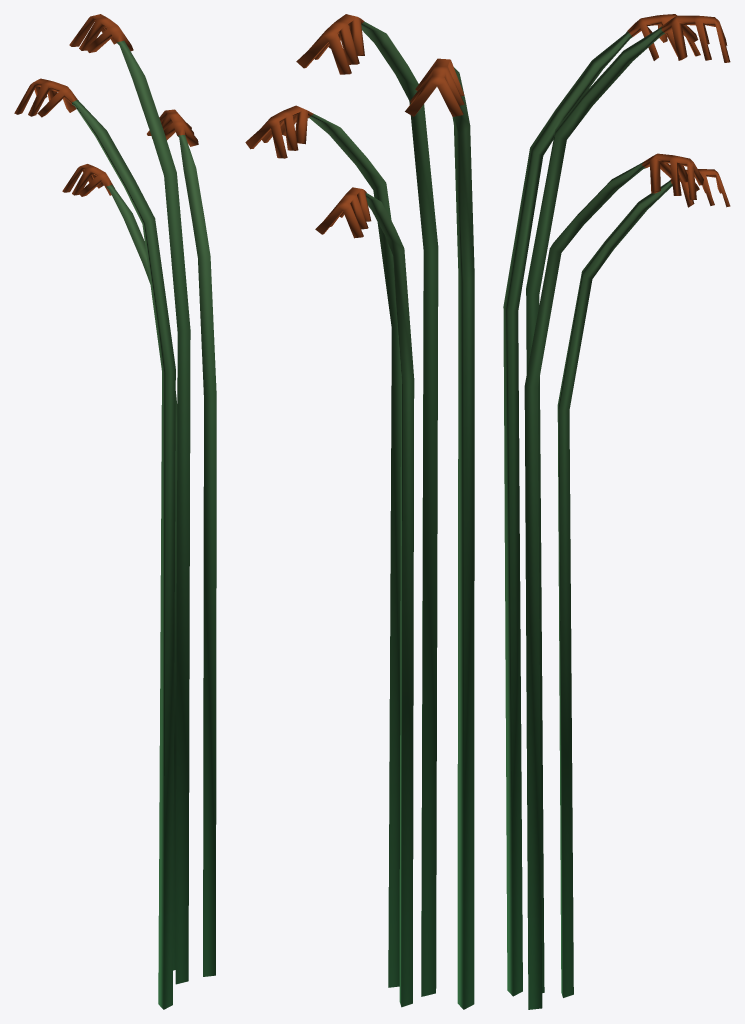
Rendered from Järvikaisla(1).fbx.
3 views of the same model, side by side, from view 1: azimuth 30°, elevation 25°; view 2: azimuth 150°, elevation 25°; view 3: azimuth 270°, elevation 25° (orthographic). The views are drawn at different scales.
Parts seen in each view (by area): view 1: Kaisla.002; view 2: Kaisla.002; view 3: Kaisla.002.
Boxes of the visible parts, <box> form: Kaisla.002: <box>14,14,216,1009</box>; Kaisla.002: <box>245,14,474,1009</box>; Kaisla.002: <box>503,14,730,1009</box>.
Size of the model in its own units: 39.8 by 190 by 39.52.
Materials: 2 (1 with a texture image).
